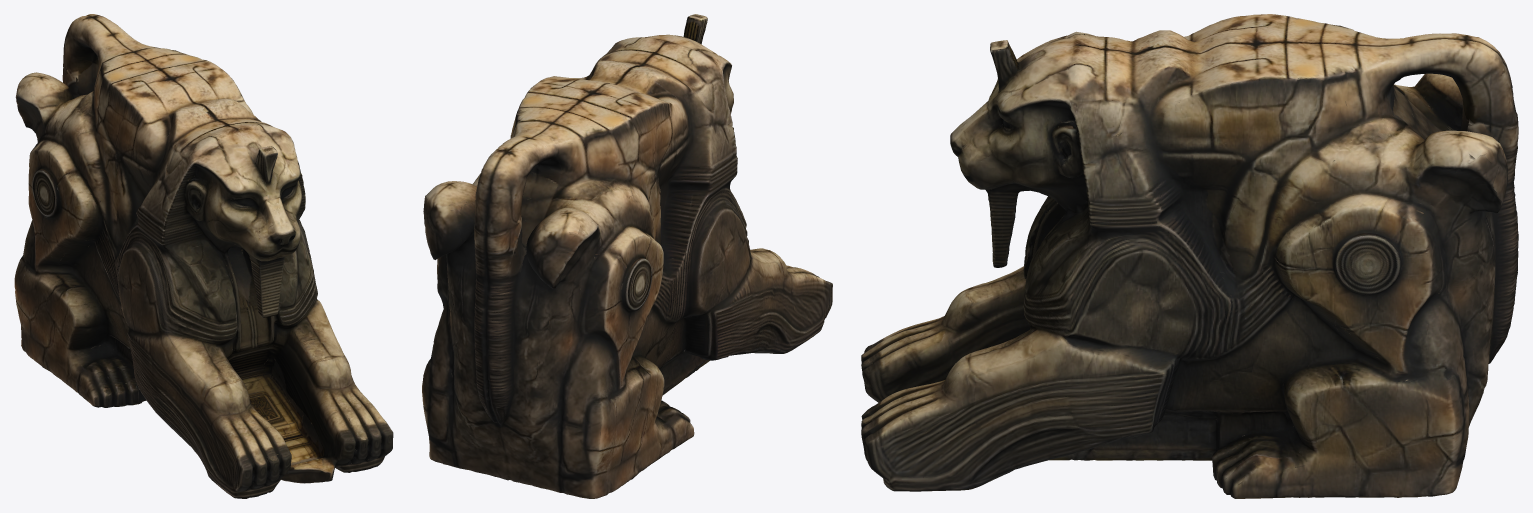
The model's file is Sphinx Temple.glb.
The picture shows the model from 3 angles, left to right: view 1: azimuth 30°, elevation 25°; view 2: azimuth 150°, elevation 25°; view 3: azimuth 270°, elevation 25°; orthographic projection. The views are drawn at different scales.
Visible parts, largest first — view 1: Mesh_0; view 2: Mesh_0; view 3: Mesh_0.
Boxes of the visible parts, x1,y1,x2,y2 form: Mesh_0: (14,14,393,498); Mesh_0: (422,14,832,498); Mesh_0: (861,14,1518,498).
Bounding box in the file's own units: 5.82 × 10 × 14.44.
1 material, 1 textured.
